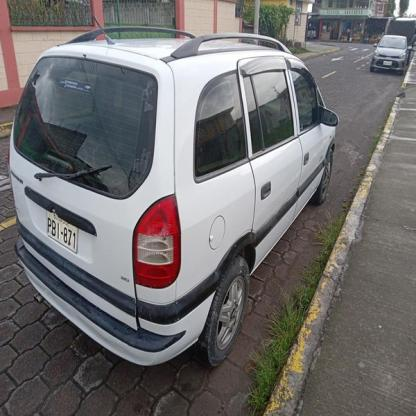Placa: (37, 202, 83, 259)
